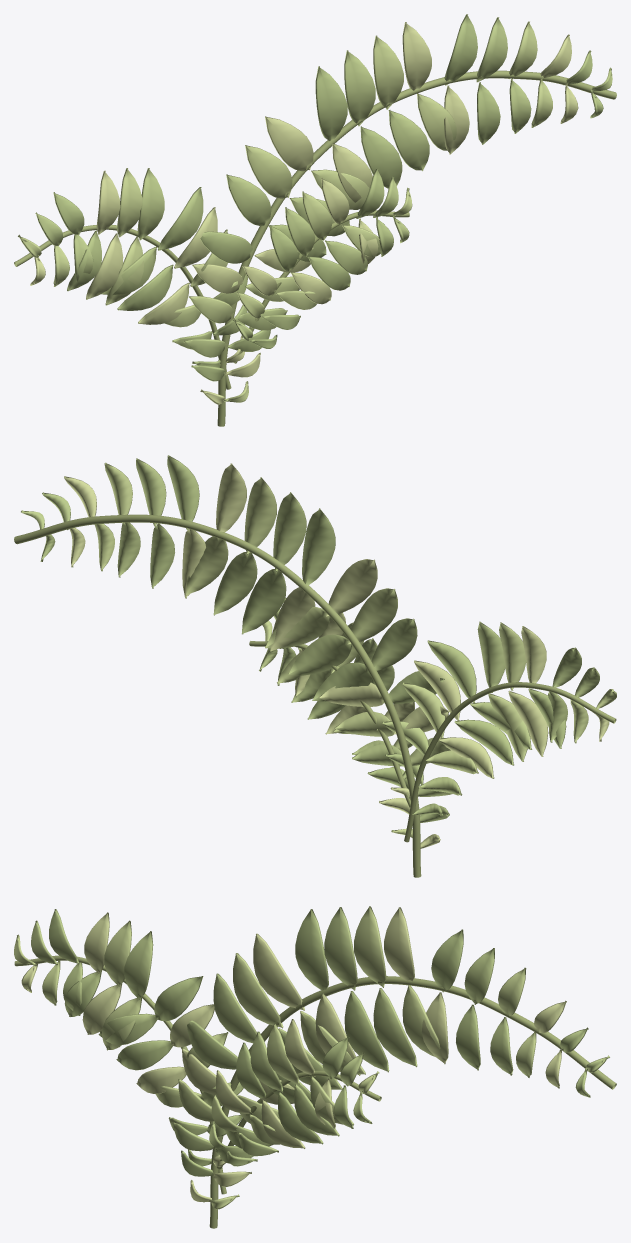
Rendered from moss-fern.glb.
3 views of the same model, one above another, from view 1: azimuth 30°, elevation 25°; view 2: azimuth 150°, elevation 25°; view 3: azimuth 330°, elevation 25° (orthographic).
Visible parts, largest first — view 1: curving fern stem 0, tapered leaflet 0 10 1, tapered leaflet 0 11 1, tapered leaflet 0 9 1, tapered leaflet 0 12 1, tapered leaflet 0 12 -1, tapered leaflet 0 8 1, tapered leaflet 0 11 -1, tapered leaflet 0 13 1, tapered leaflet 0 7 1, tapered leaflet 0 14 1, tapered leaflet 1 6 -1 (+35 smaller); view 2: curving fern stem 0, curving fern stem 1, tapered leaflet 0 10 1, tapered leaflet 0 11 -1, tapered leaflet 0 11 1, tapered leaflet 0 9 1, tapered leaflet 0 12 -1, tapered leaflet 0 8 -1, tapered leaflet 0 12 1, tapered leaflet 0 8 1, tapered leaflet 0 13 1, tapered leaflet 0 7 1 (+33 smaller); view 3: curving fern stem 0, tapered leaflet 0 9 1, tapered leaflet 0 11 -1, tapered leaflet 0 10 1, tapered leaflet 0 11 1, tapered leaflet 0 12 -1, tapered leaflet 0 8 1, tapered leaflet 0 12 1, tapered leaflet 0 7 1, tapered leaflet 0 13 1, tapered leaflet 1 7 -1, tapered leaflet 1 6 -1 (+45 smaller).
Part boxes in pixels (box(x1,y1,x2,y2)): curving fern stem 0: box(217, 70, 616, 426); tapered leaflet 0 10 1: box(315, 66, 347, 140); tapered leaflet 0 11 1: box(344, 50, 375, 126); tapered leaflet 0 9 1: box(265, 116, 313, 171); tapered leaflet 0 12 1: box(373, 35, 403, 109); tapered leaflet 0 12 -1: box(388, 110, 429, 171); tapered leaflet 0 8 1: box(245, 145, 292, 198); tapered leaflet 0 11 -1: box(360, 126, 402, 188); tapered leaflet 0 13 1: box(402, 22, 431, 90); tapered leaflet 0 7 1: box(226, 174, 271, 225); tapered leaflet 0 14 1: box(444, 14, 477, 85); tapered leaflet 1 6 -1: box(158, 187, 203, 250); curving fern stem 0: box(14, 514, 421, 877); curving fern stem 1: box(404, 682, 616, 842); tapered leaflet 0 10 1: box(302, 508, 335, 585); tapered leaflet 0 11 -1: box(241, 569, 286, 634); tapered leaflet 0 11 1: box(273, 492, 306, 571); tapered leaflet 0 9 1: box(326, 559, 377, 616); tapered leaflet 0 12 -1: box(213, 552, 257, 615); tapered leaflet 0 8 -1: box(288, 634, 351, 675); tapered leaflet 0 12 1: box(244, 477, 276, 554); tapered leaflet 0 8 1: box(347, 588, 397, 644); tapered leaflet 0 13 1: box(216, 463, 246, 532); tapered leaflet 0 7 1: box(371, 618, 417, 670); curving fern stem 0: box(209, 976, 616, 1228); tapered leaflet 0 9 1: box(253, 933, 304, 1010); tapered leaflet 0 11 -1: box(344, 991, 389, 1072); tapered leaflet 0 10 1: box(295, 909, 328, 990); tapered leaflet 0 11 1: box(324, 907, 357, 990); tapered leaflet 0 12 -1: box(373, 988, 417, 1067); tapered leaflet 0 8 1: box(233, 953, 283, 1028); tapered leaflet 0 12 1: box(354, 906, 386, 987); tapered leaflet 0 7 1: box(213, 973, 256, 1043); tapered leaflet 0 13 1: box(384, 907, 414, 981); tapered leaflet 1 7 -1: box(124, 931, 153, 999); tapered leaflet 1 6 -1: box(154, 976, 203, 1020).
Bounding box in the file's own units: 4.61 × 2.66 × 0.4097.
